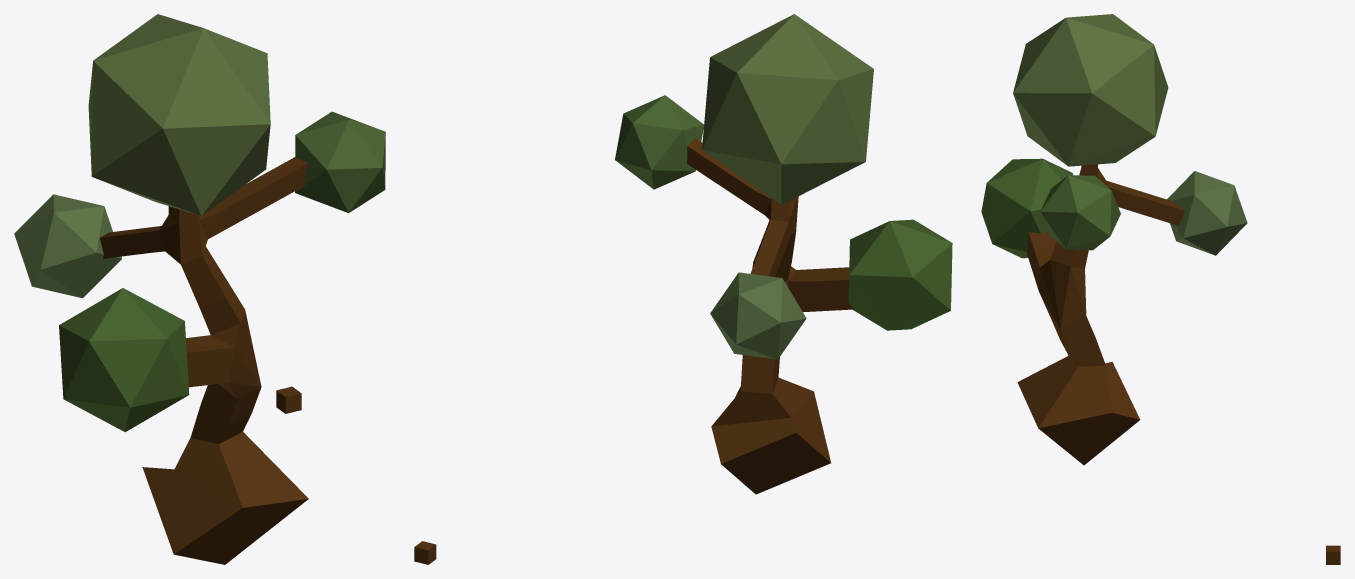
The model's file is tree.fbx.
3 views of the same model, side by side, from view 1: azimuth 30°, elevation 25°; view 2: azimuth 150°, elevation 25°; view 3: azimuth 270°, elevation 25° (orthographic). The views are drawn at different scales.
Visible parts, largest first — view 1: Cube, Icosphere, Icosphere.002, Icosphere.001, Icosphere.003; view 2: Icosphere, Cube, Icosphere.002, Icosphere.001, Icosphere.003; view 3: Icosphere, Cube, Icosphere.002, Icosphere.003, Icosphere.001.
Boxes of the visible parts, x1,y1,x2,y2 form: Cube: (100, 157, 308, 564); Icosphere: (88, 14, 270, 215); Icosphere.002: (59, 288, 189, 432); Icosphere.001: (14, 194, 121, 298); Icosphere.003: (295, 111, 385, 213); Icosphere: (702, 14, 873, 204); Cube: (414, 138, 853, 564); Icosphere.002: (848, 219, 952, 330); Icosphere.001: (710, 272, 806, 359); Icosphere.003: (615, 95, 703, 189); Icosphere: (1013, 14, 1168, 166); Cube: (1017, 164, 1340, 564); Icosphere.002: (981, 158, 1073, 258); Icosphere.003: (1040, 175, 1120, 250); Icosphere.001: (1167, 171, 1247, 255).
Size of the model in its own units: 1317 by 1685 by 1229.
